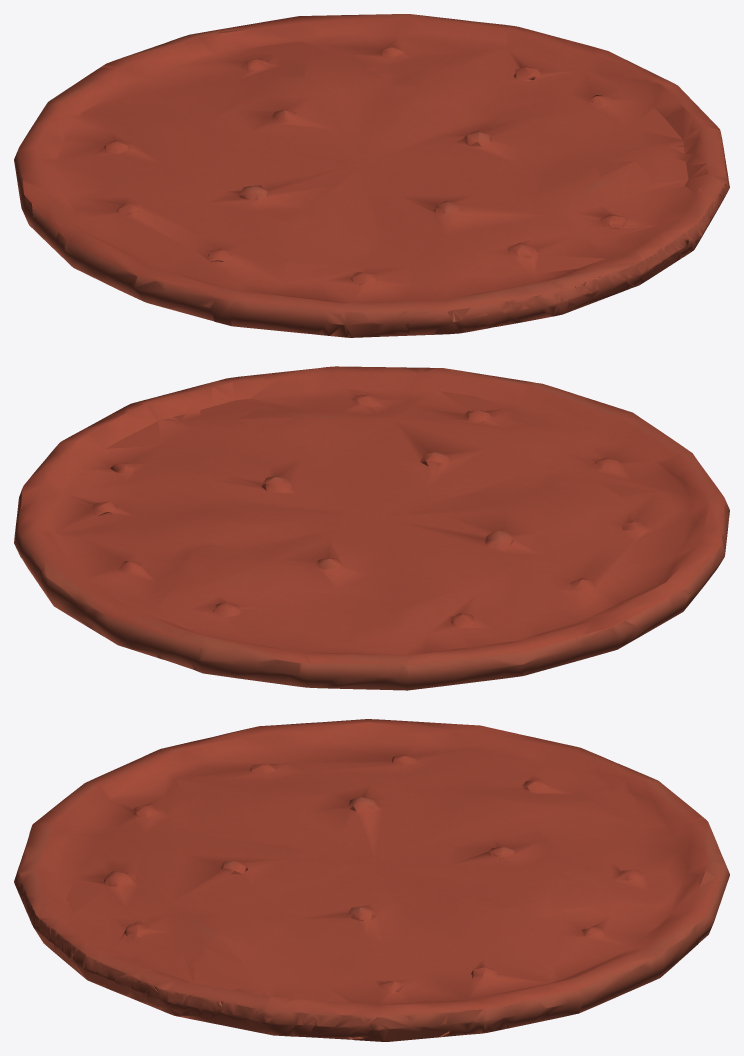
The model's file is Meshy_AI_Low_Poly_Pepperoni_Pi_0823051850_texture.fbx.
3 renders of one model, top to bottom at view 1: azimuth 30°, elevation 25°; view 2: azimuth 150°, elevation 25°; view 3: azimuth 270°, elevation 25°, orthographic.
Visible parts, largest first — view 1: output_unwrapped; view 2: output_unwrapped; view 3: output_unwrapped.
Boxes of the visible parts, left/top/right/bottom form: output_unwrapped: left=14, top=14, right=729, bottom=337; output_unwrapped: left=14, top=366, right=729, bottom=690; output_unwrapped: left=14, top=719, right=729, bottom=1041.
Bounding box in the file's own units: 190 × 10.89 × 190.
1 material, 1 textured.
